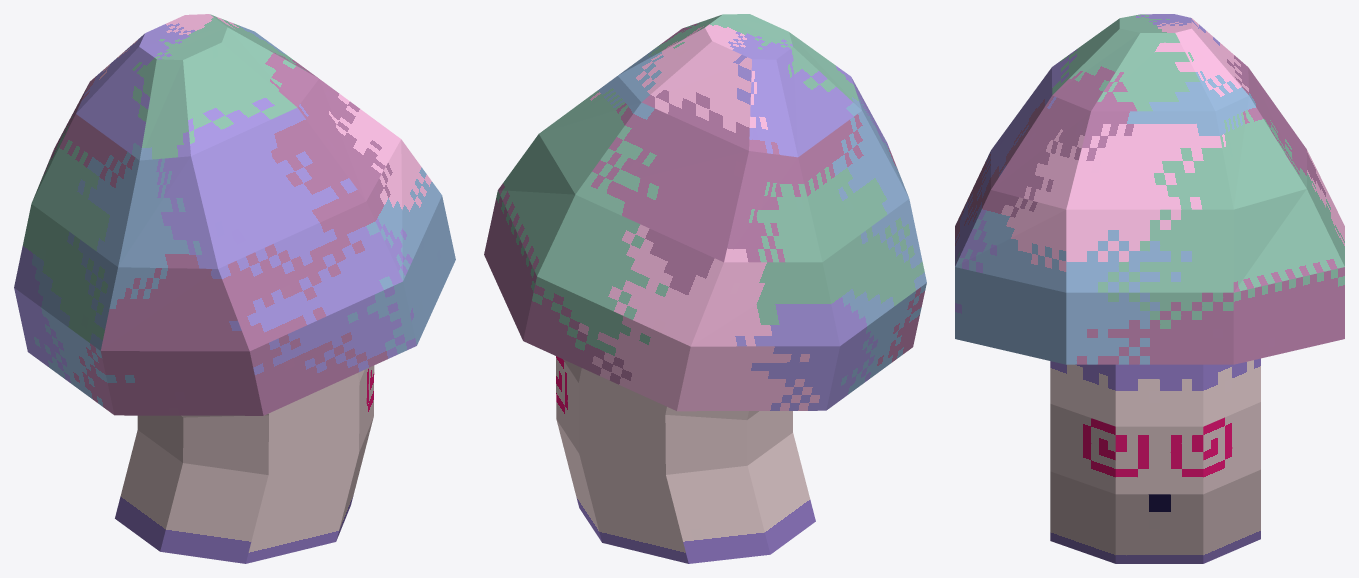
Rendered from modelo3.glb.
3 renders of one model, left to right at view 1: azimuth 30°, elevation 25°; view 2: azimuth 150°, elevation 25°; view 3: azimuth 270°, elevation 25°, orthographic. The views are drawn at different scales.
Parts seen in each view (by area): view 1: cylinder_1, cylinder; view 2: cylinder_1, cylinder; view 3: cylinder_1, cylinder.
Part boxes in pixels (left/top/right/bottom): cylinder_1: left=14, top=14, right=455, bottom=415; cylinder: left=115, top=365, right=374, bottom=563; cylinder_1: left=484, top=14, right=926, bottom=411; cylinder: left=556, top=356, right=815, bottom=563; cylinder_1: left=955, top=14, right=1344, bottom=364; cylinder: left=1050, top=358, right=1260, bottom=563.
Size of the model in its own units: 2.31 by 3.09 by 2.28.
Materials: 1 (1 with a texture image).
